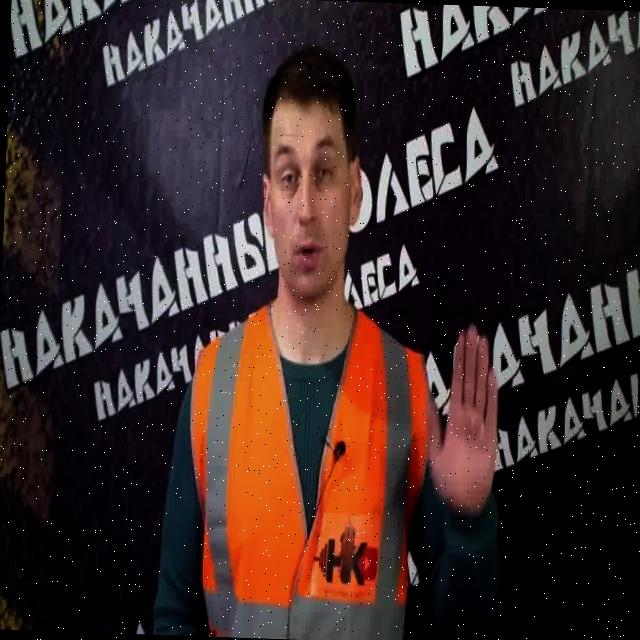vest: (180, 295, 434, 640)
